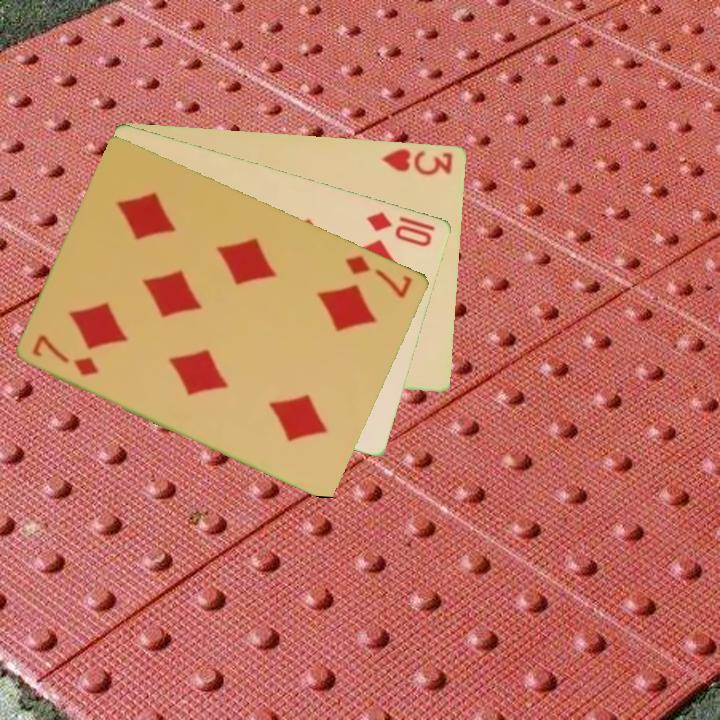10d: (363, 208, 436, 250)
3h: (378, 144, 456, 178)
7d: (342, 251, 416, 301), (29, 330, 103, 379)
